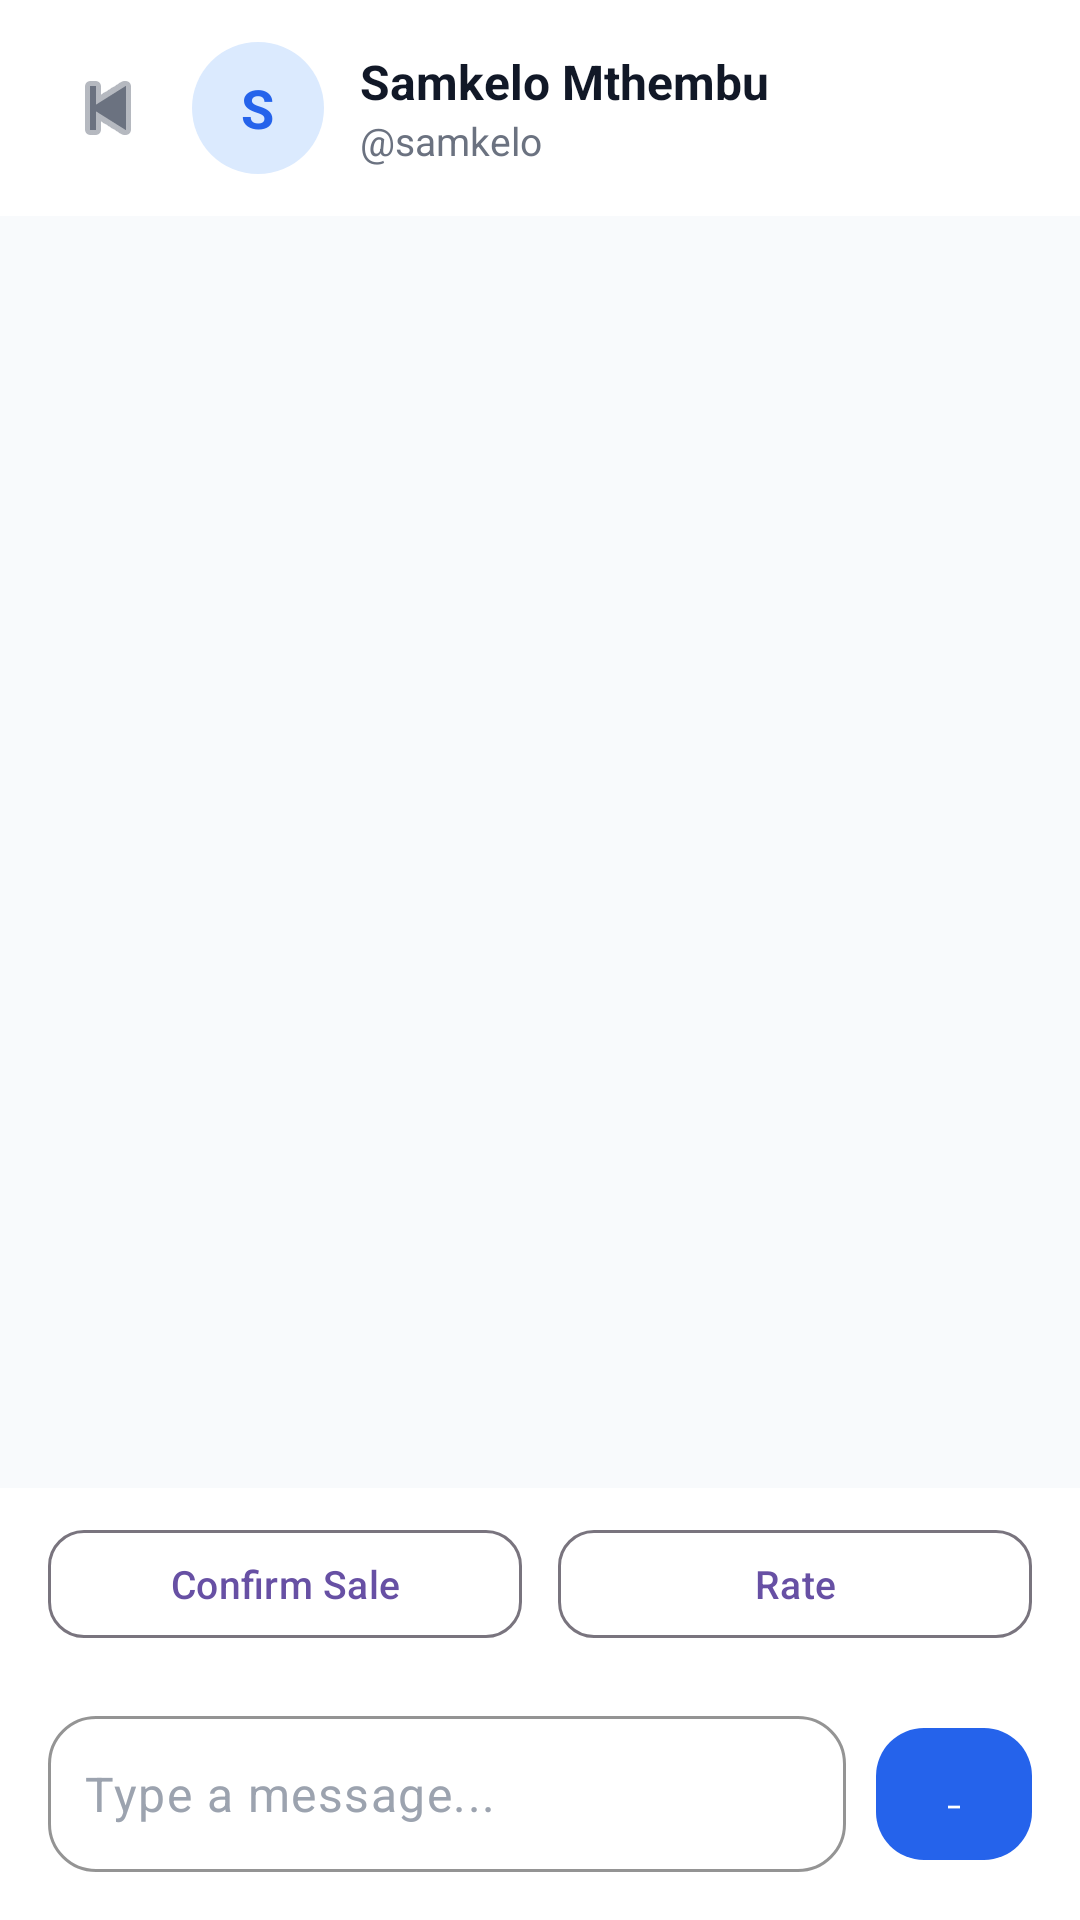

Point at icon controls on the screen. Image size 1080px x 1920px, points as point (x, y).
previous: point (108, 108)
